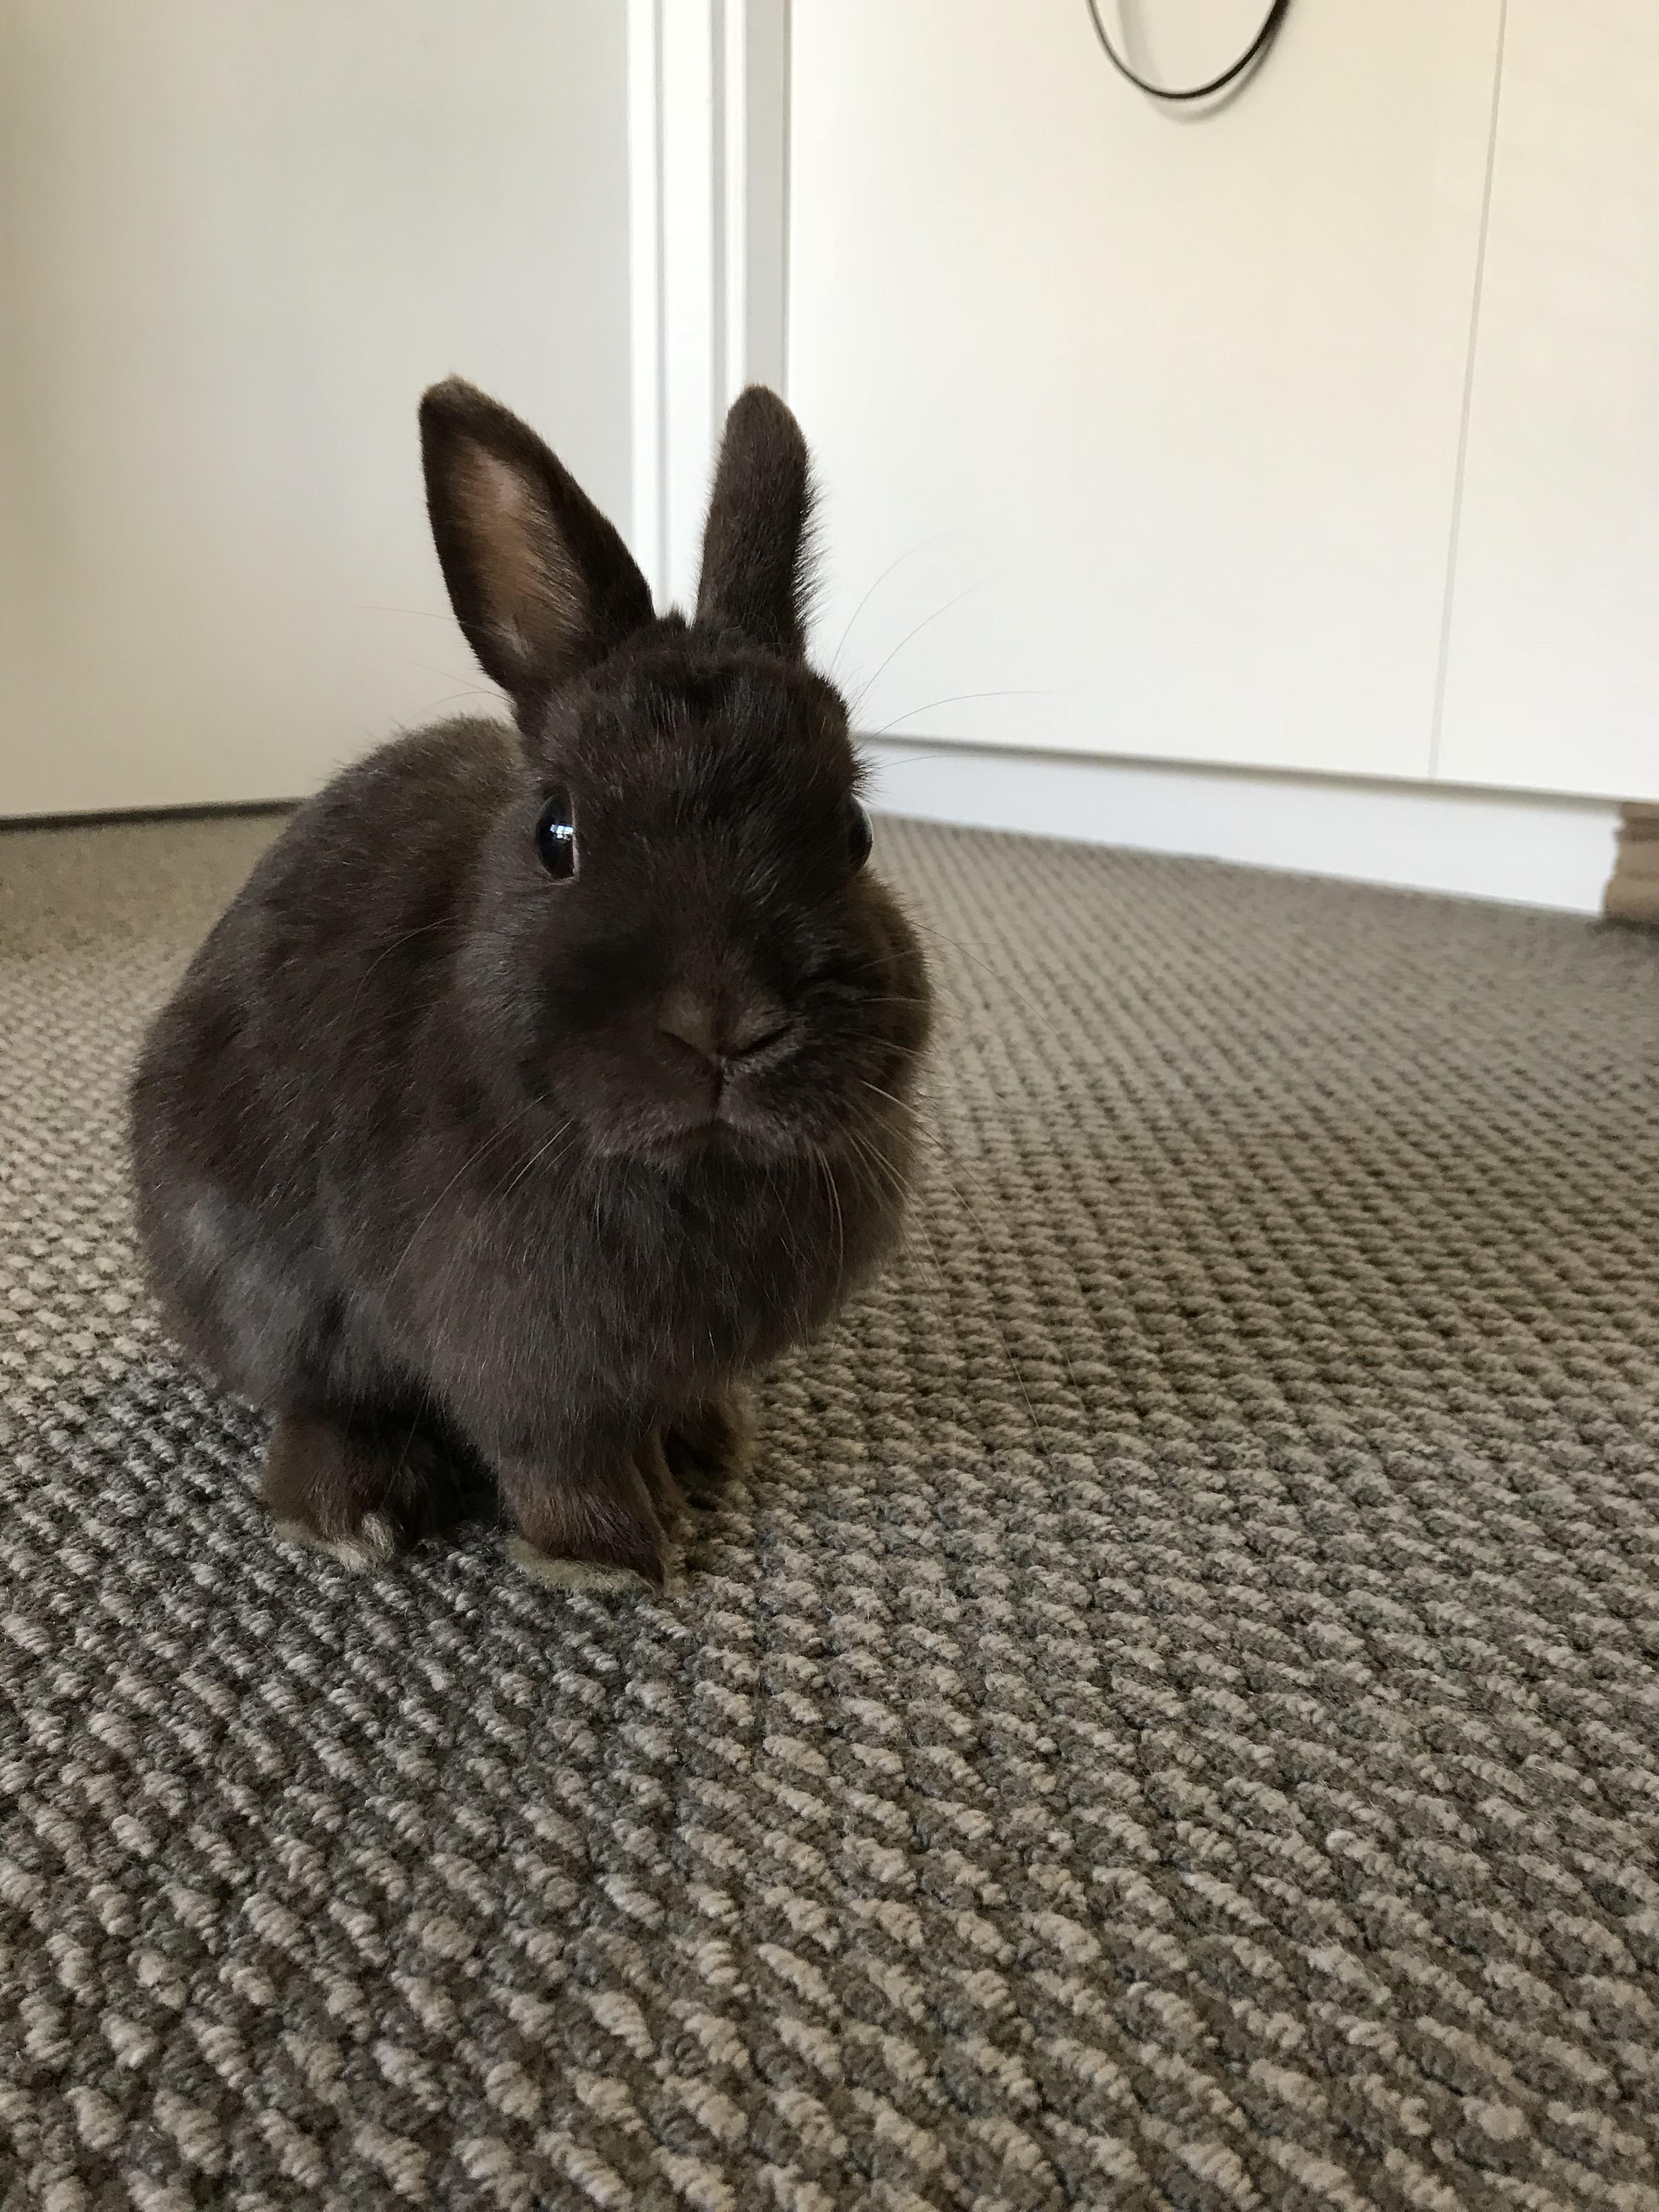bunny: (73, 341, 990, 1602)
